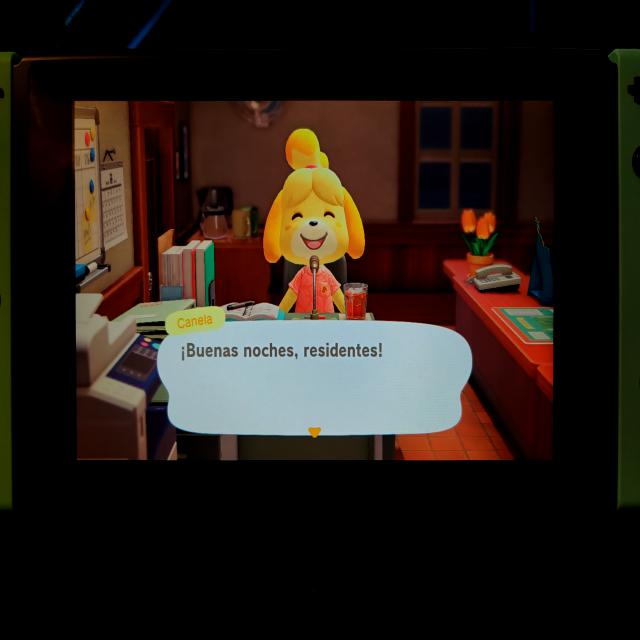text_bubble: (159, 305, 474, 440)
